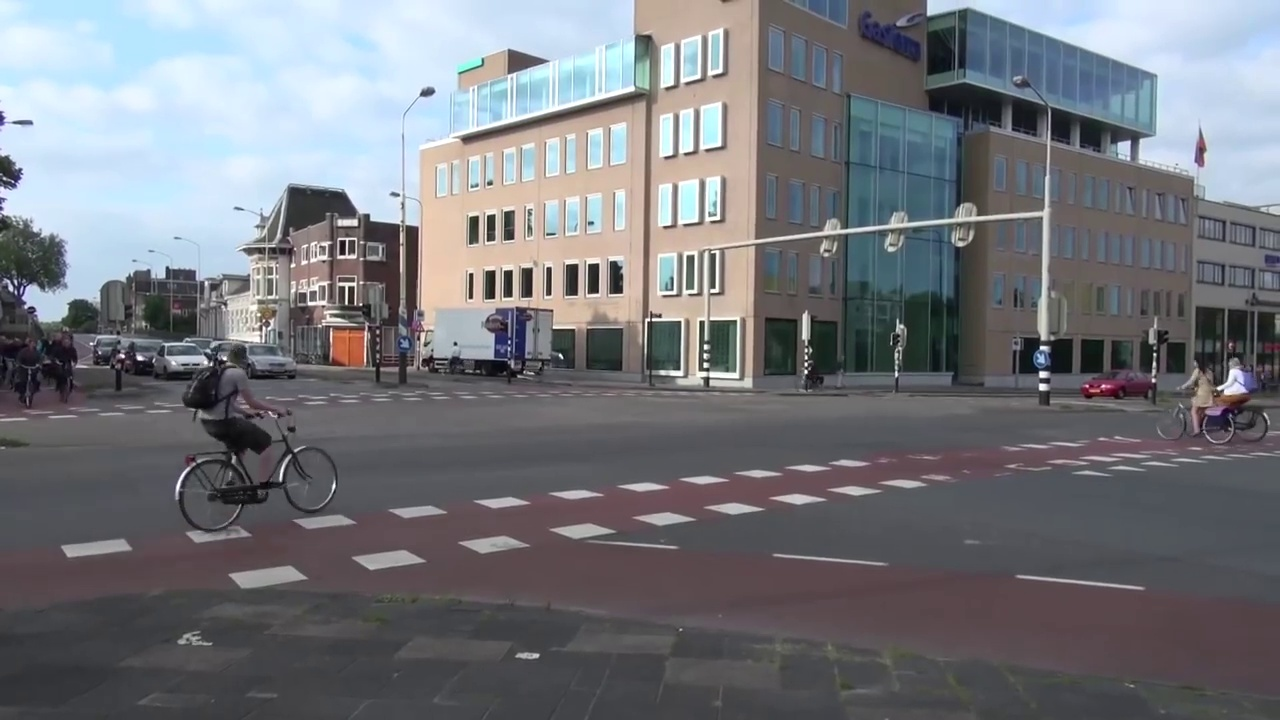cyclist_side: (170, 341, 347, 531), (1159, 347, 1231, 445), (1214, 358, 1274, 446)
